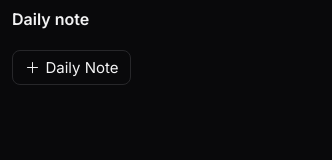
Test case: DailyNoteSlot › test 409 name taken by another file shows the error and keeps the button
The image size is (332, 160).
Click the button "Daily Note": (72, 68) [12, 50, 131, 85]
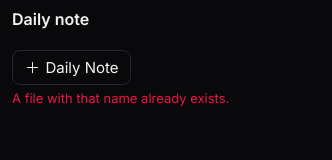
Expected: the text "A file with that name already exists." is shown, [12, 89, 229, 109]
